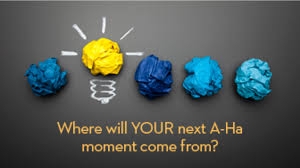crumpled paper: (82, 39, 128, 81), (137, 59, 180, 102), (235, 57, 275, 98), (185, 57, 224, 98), (27, 59, 66, 93)
